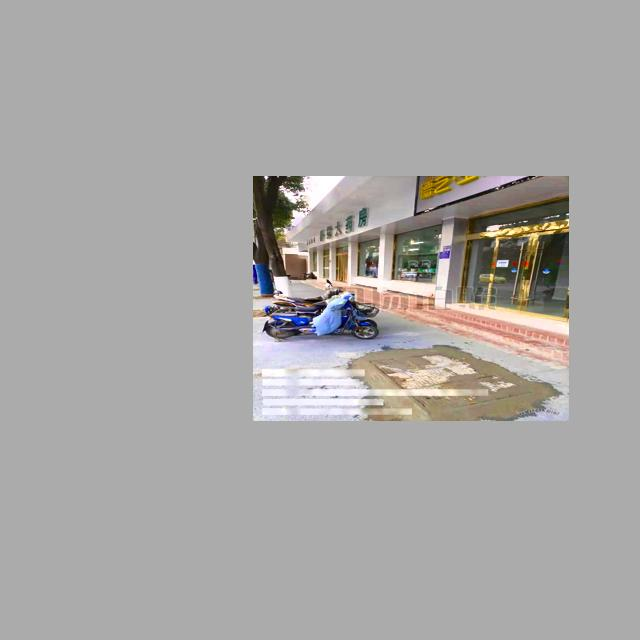good: (337, 342, 555, 419)
